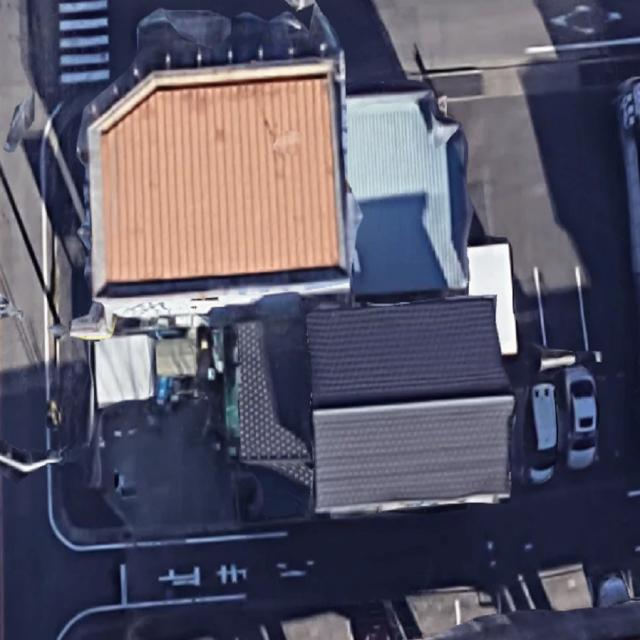Batiment: (225, 293, 514, 515), (88, 59, 346, 295)
